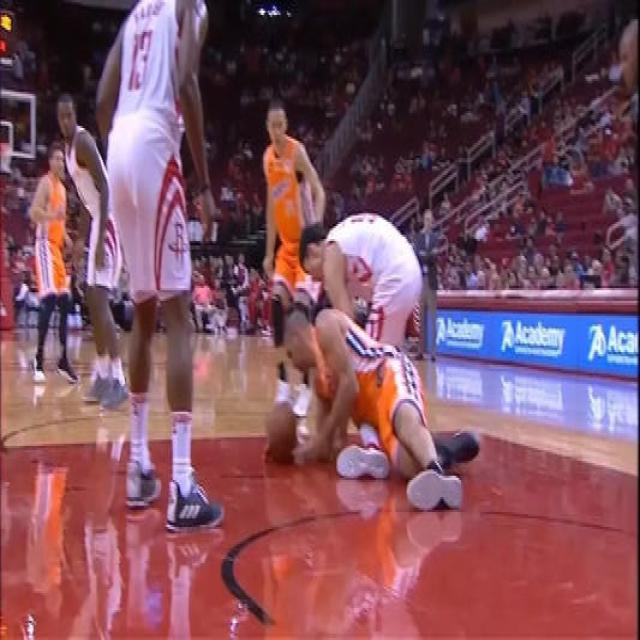10-: (0, 0, 639, 540)
down: (286, 309, 460, 516), (263, 361, 479, 482)
